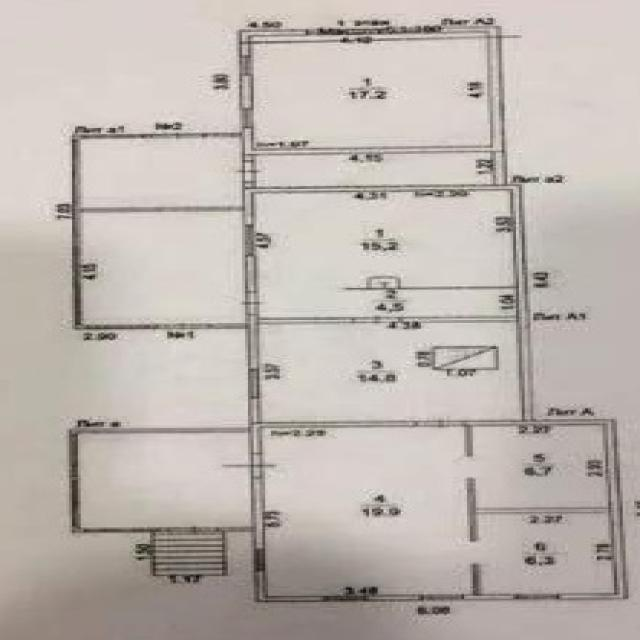Corridors: (81, 435, 249, 526), (257, 155, 492, 186)
Doors: (222, 453, 279, 478), (310, 27, 442, 35), (237, 291, 269, 315), (233, 161, 266, 183), (414, 418, 464, 429), (354, 316, 405, 323), (244, 225, 253, 256), (463, 456, 475, 478), (469, 541, 481, 562)
LBwalls: (242, 182, 533, 420), (466, 419, 628, 601), (441, 25, 508, 185), (247, 399, 413, 453), (243, 127, 492, 162), (246, 315, 353, 370), (253, 571, 322, 601), (238, 28, 307, 55), (250, 478, 267, 549), (478, 508, 608, 514), (405, 316, 515, 323), (239, 75, 253, 108), (245, 257, 258, 292), (367, 594, 419, 601), (465, 594, 515, 601)
Offices: (266, 429, 464, 592), (256, 192, 513, 317), (254, 32, 490, 145), (259, 325, 520, 420), (83, 214, 243, 321), (83, 139, 241, 206), (477, 426, 607, 507), (482, 516, 613, 593)
Stairs: (149, 530, 231, 578)
Walls: (72, 132, 247, 330), (71, 427, 248, 533), (79, 207, 242, 213), (467, 478, 479, 540), (343, 287, 518, 290), (472, 564, 482, 594), (464, 427, 474, 454)
Windows: (247, 369, 260, 399), (419, 594, 464, 601), (516, 594, 559, 601), (324, 595, 366, 602), (254, 549, 266, 571), (240, 56, 252, 75), (243, 108, 253, 127)
